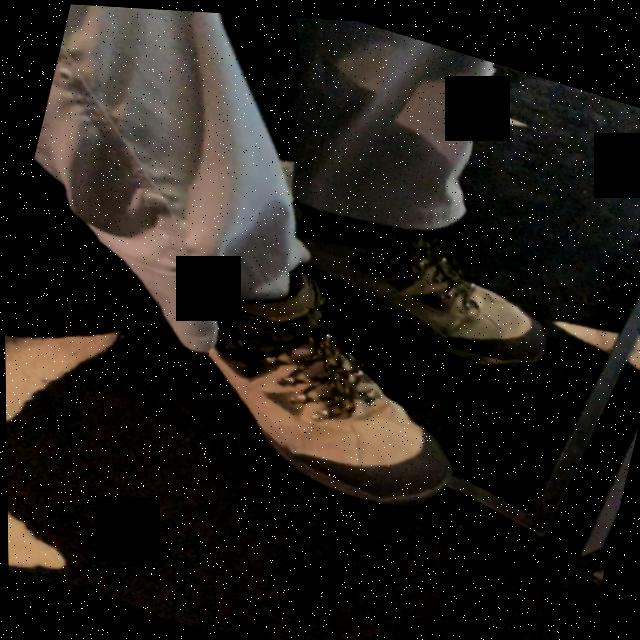shoe: (206, 272, 455, 508), (319, 208, 539, 355)
